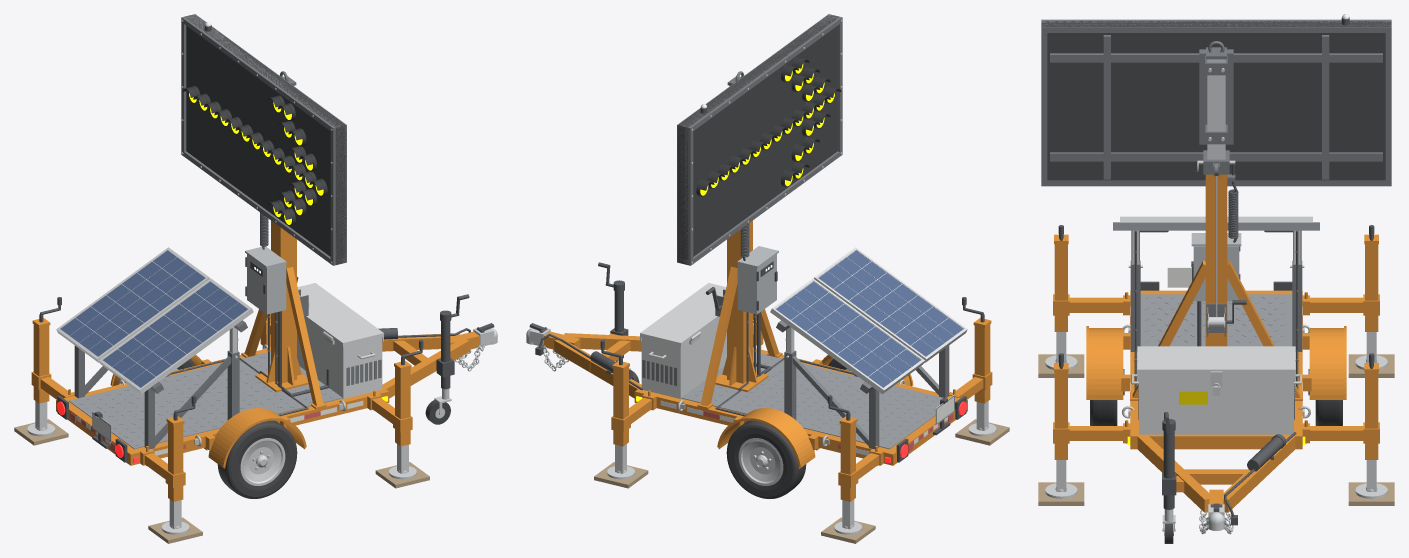
The model's file is Solar_Arrow_Board_Trailer.glb.
3 renders of one model, left to right at view 1: azimuth 30°, elevation 25°; view 2: azimuth 150°, elevation 25°; view 3: azimuth 270°, elevation 25°, orthographic. The views are drawn at different scales.
Parts seen in each view (by area): view 1: sign_face, deck, solar_cells, solar_cells_2, sign_frame, jack_tubes, battery_box, solar_rack, mast_outer, frame, tyre_R, battery_lid (+19 smaller); view 2: sign_face, deck, solar_cells, solar_cells_2, sign_frame, jack_tubes, battery_box, solar_rack, mast_outer, tyre_L, frame, battery_lid (+20 smaller); view 3: sign_face, sign_mount, battery_box, sign_frame, jack_tubes, deck, battery_lid, outrigger_arms, a_frame, solar_rack, frame, mast_outer (+20 smaller).
Boxes of the visible parts, x1=… form: sign_face: x1=184, y1=14, x2=346, y2=264; deck: x1=69, y1=351, x2=342, y2=449; solar_cells: x1=60, y1=250, x2=205, y2=356; solar_cells_2: x1=103, y1=281, x2=247, y2=387; sign_frame: x1=181, y1=14, x2=346, y2=265; jack_tubes: x1=31, y1=313, x2=412, y2=501; battery_box: x1=297, y1=319, x2=382, y2=398; solar_rack: x1=74, y1=320, x2=247, y2=449; mast_outer: x1=255, y1=220, x2=308, y2=392; frame: x1=56, y1=347, x2=389, y2=465; tyre_R: x1=217, y1=420, x2=297, y2=498; battery_lid: x1=297, y1=283, x2=383, y2=346; sign_face: x1=677, y1=14, x2=839, y2=264; deck: x1=681, y1=351, x2=943, y2=449; solar_cells: x1=776, y1=281, x2=920, y2=387; solar_cells_2: x1=818, y1=250, x2=963, y2=356; sign_frame: x1=677, y1=14, x2=842, y2=265; jack_tubes: x1=611, y1=313, x2=992, y2=501; battery_box: x1=641, y1=319, x2=726, y2=398; solar_rack: x1=776, y1=320, x2=949, y2=449; mast_outer: x1=715, y1=220, x2=768, y2=392; tyre_L: x1=726, y1=420, x2=806, y2=498; frame: x1=634, y1=347, x2=967, y2=465; battery_lid: x1=640, y1=283, x2=726, y2=346; sign_face: x1=1041, y1=21, x2=1391, y2=180; sign_mount: x1=1050, y1=35, x2=1382, y2=179; battery_box: x1=1139, y1=379, x2=1293, y2=434; sign_frame: x1=1041, y1=19, x2=1391, y2=186; jack_tubes: x1=1053, y1=234, x2=1379, y2=459; deck: x1=1140, y1=294, x2=1292, y2=346; battery_lid: x1=1137, y1=346, x2=1295, y2=378; outrigger_arms: x1=1069, y1=292, x2=1363, y2=443; a_frame: x1=1137, y1=436, x2=1295, y2=512; solar_rack: x1=1113, y1=222, x2=1319, y2=351; frame: x1=1130, y1=290, x2=1302, y2=449; mast_outer: x1=1205, y1=174, x2=1227, y2=346.
Size of the model in its own units: 3.81 by 3.4 by 2.48.
